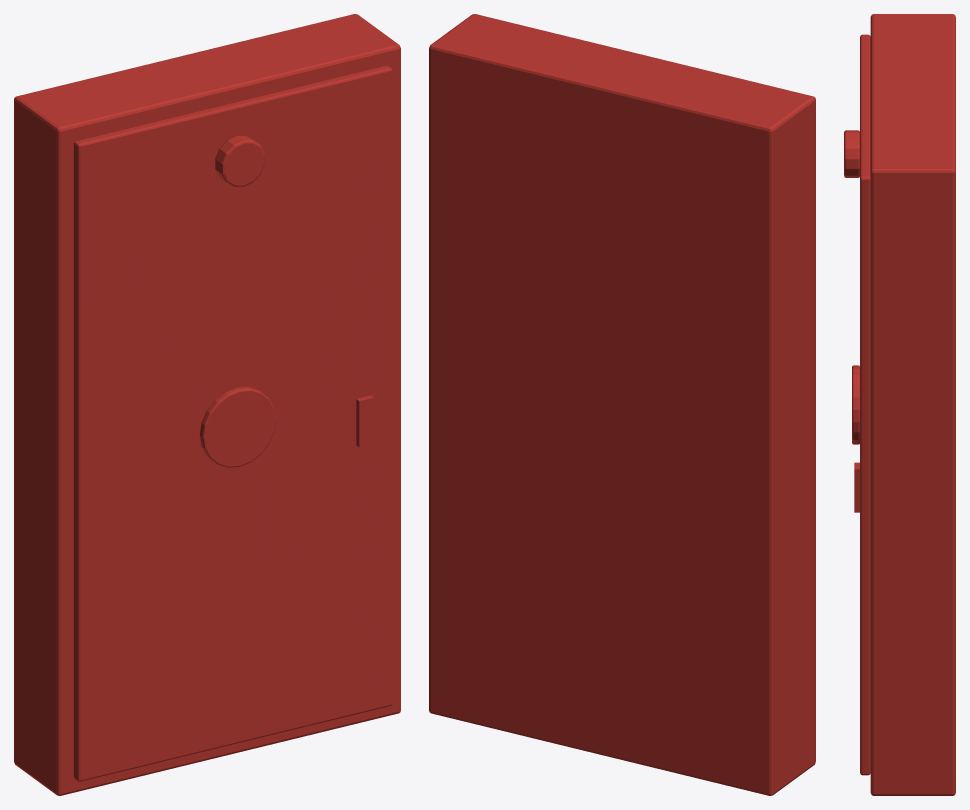
File: hydrant-cabinet.glb
3 views of the same model, side by side, from view 1: azimuth 30°, elevation 25°; view 2: azimuth 150°, elevation 25°; view 3: azimuth 270°, elevation 25° (orthographic). The views are drawn at different scales.
Visible parts, largest first — view 1: hydrantcabinet_merged; view 2: hydrantcabinet_merged; view 3: hydrantcabinet_merged.
Boxes of the visible parts, x1,y1,x2,y2 form: hydrantcabinet_merged: (14,14,400,795); hydrantcabinet_merged: (429,14,815,795); hydrantcabinet_merged: (844,14,955,795).
Bounding box in the file's own units: 0.7 × 1.3 × 0.21.
